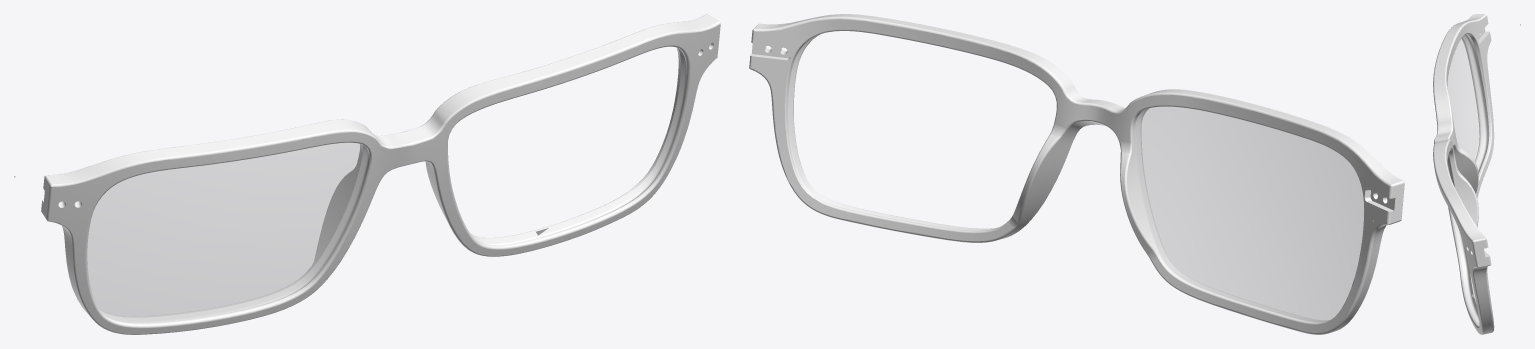
3 views of the same model, side by side, from view 1: azimuth 30°, elevation 25°; view 2: azimuth 150°, elevation 25°; view 3: azimuth 270°, elevation 25° (orthographic). The views are drawn at different scales.
Parts seen in each view (by area): view 1: FRONTALE, LENTE_DX; view 2: LENTE_DX, FRONTALE; view 3: FRONTALE, LENTE_DX.
Boxes of the visible parts, x1,y1,x2,y2 form: FRONTALE: (41, 14, 720, 334); LENTE_DX: (87, 143, 368, 323); LENTE_DX: (1135, 107, 1363, 321); FRONTALE: (749, 14, 1404, 334); FRONTALE: (1433, 14, 1494, 334); LENTE_DX: (1448, 34, 1488, 172).
Size of the model in its own units: 1.41 by 0.3997 by 0.2299.
Materials: 3 (1 with a texture image).
